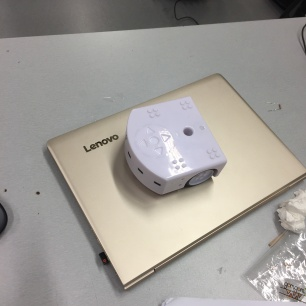thymio: (118, 91, 231, 201)
